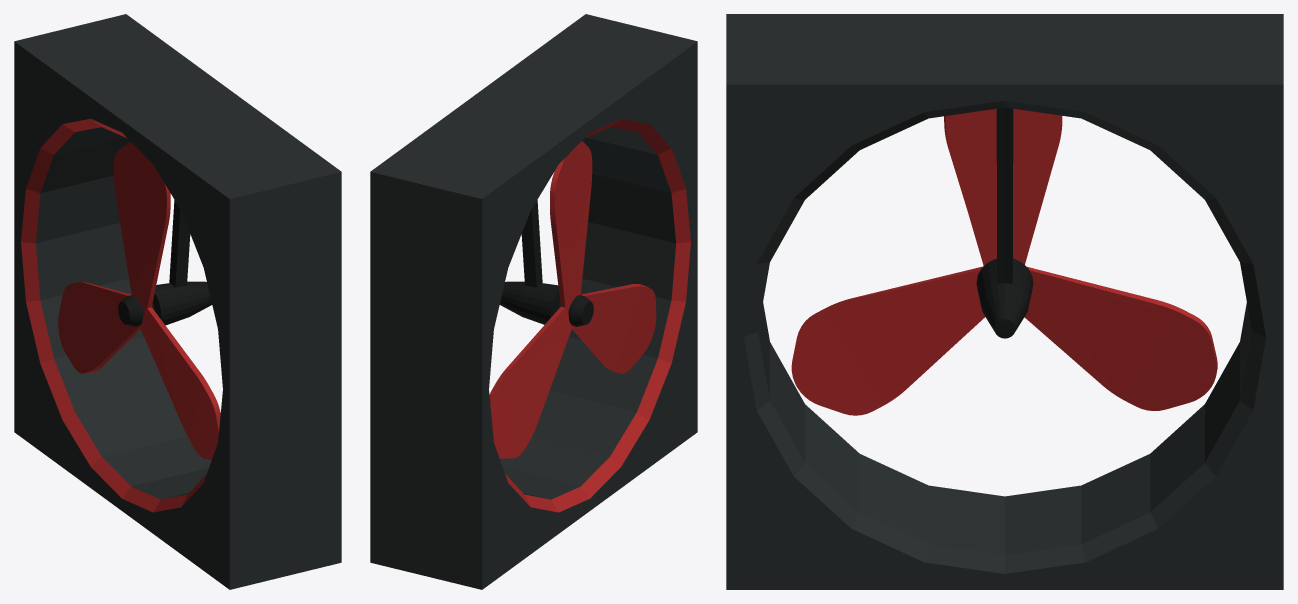
The model's file is Fan.fbx.
3 renders of one model, left to right at view 1: azimuth 30°, elevation 25°; view 2: azimuth 150°, elevation 25°; view 3: azimuth 270°, elevation 25°, orthographic. The views are drawn at different scales.
Parts seen in each view (by area): view 1: fan_body, fan_blades, fan_engine; view 2: fan_body, fan_blades, fan_engine; view 3: fan_body, fan_blades, fan_engine.
Boxes of the visible parts, <box> form: fan_body: <box>14,14,341,589</box>; fan_blades: <box>58,142,220,459</box>; fan_engine: <box>141,200,212,325</box>; fan_body: <box>370,14,697,589</box>; fan_blades: <box>489,141,656,458</box>; fan_engine: <box>499,200,570,324</box>; fan_body: <box>726,14,1283,589</box>; fan_blades: <box>791,108,1217,415</box>; fan_engine: <box>976,107,1033,338</box>.
Size of the model in its own units: 140 by 468 by 468.
